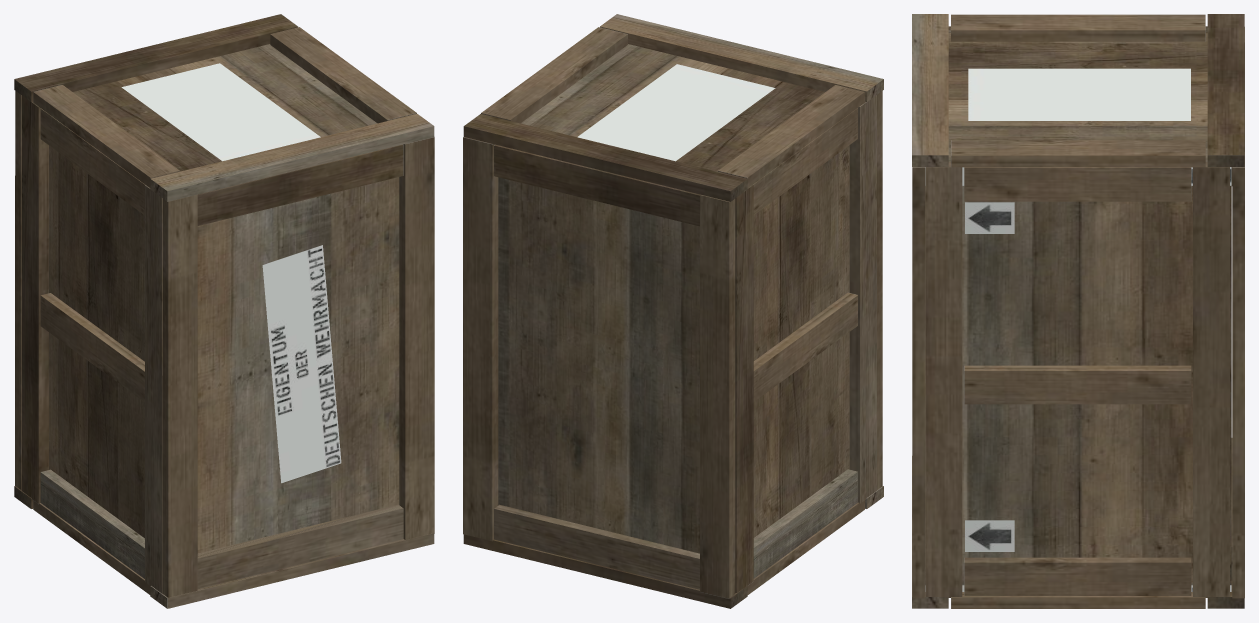
File: prop_crate_wehrmacht7a.glb
3 views of the same model, side by side, from view 1: azimuth 30°, elevation 25°; view 2: azimuth 150°, elevation 25°; view 3: azimuth 270°, elevation 25° (orthographic). The views are drawn at different scales.
Bounding box in the file's own units: 23.99 × 35.8 × 23.83.
Materials: 2 (2 with a texture image).
